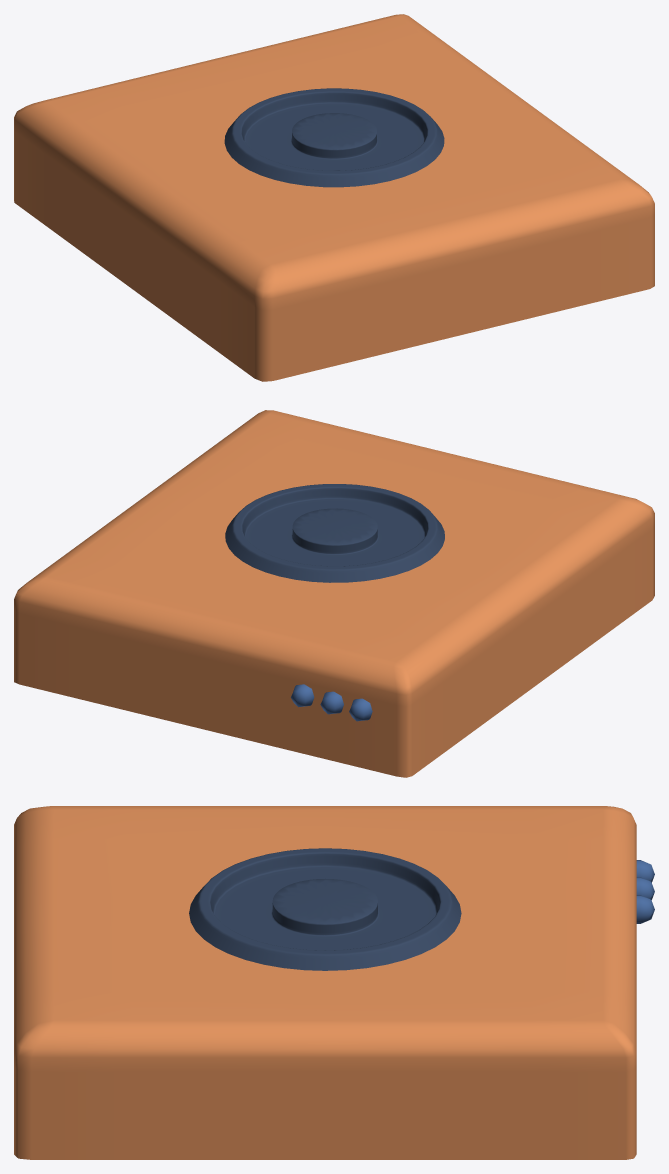
Rendered from Stove.fbx.
3 renders of one model, top to bottom at view 1: azimuth 30°, elevation 25°; view 2: azimuth 150°, elevation 25°; view 3: azimuth 270°, elevation 25°, orthographic. The views are drawn at different scales.
Visible parts, largest first — view 1: Stove; view 2: Stove; view 3: Stove.
Part boxes in pixels (x1,y1,x2,y2): Stove: (14,14,654,381); Stove: (14,410,654,777); Stove: (14,806,654,1159).
Size of the model in its own units: 38.78 by 10.56 by 43.79.
1 material, 1 textured.
